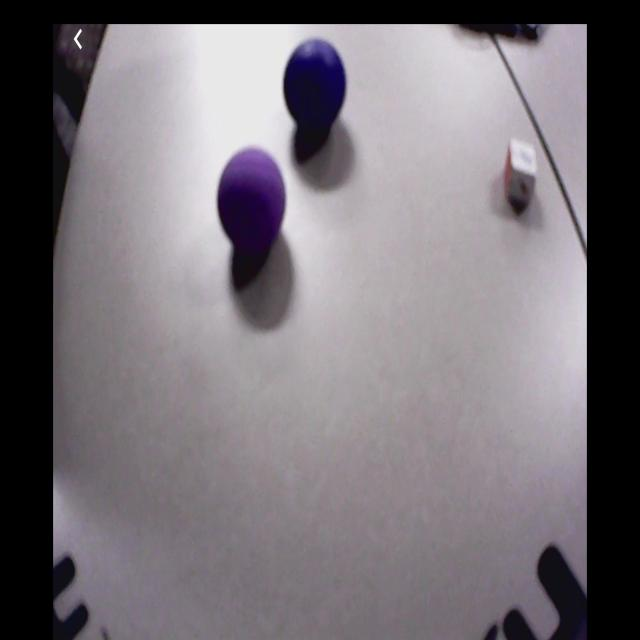ball: (218, 150, 286, 247), (283, 41, 347, 128)
